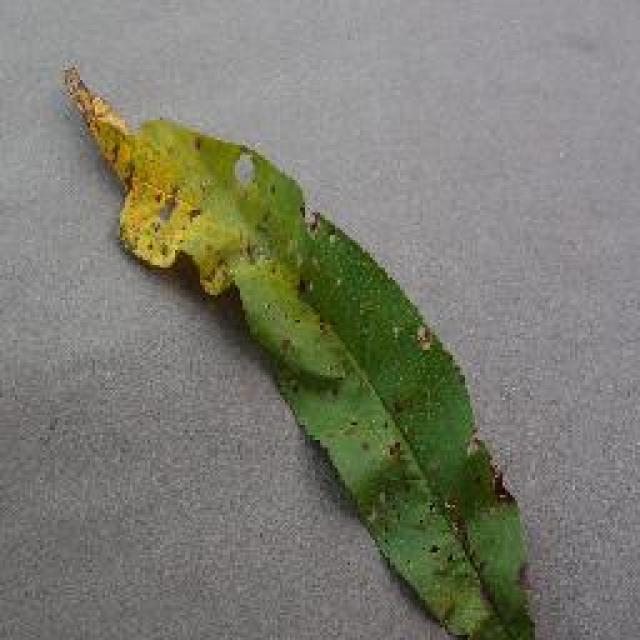Peach_Bacterial_Spot: (115, 118, 408, 390)
